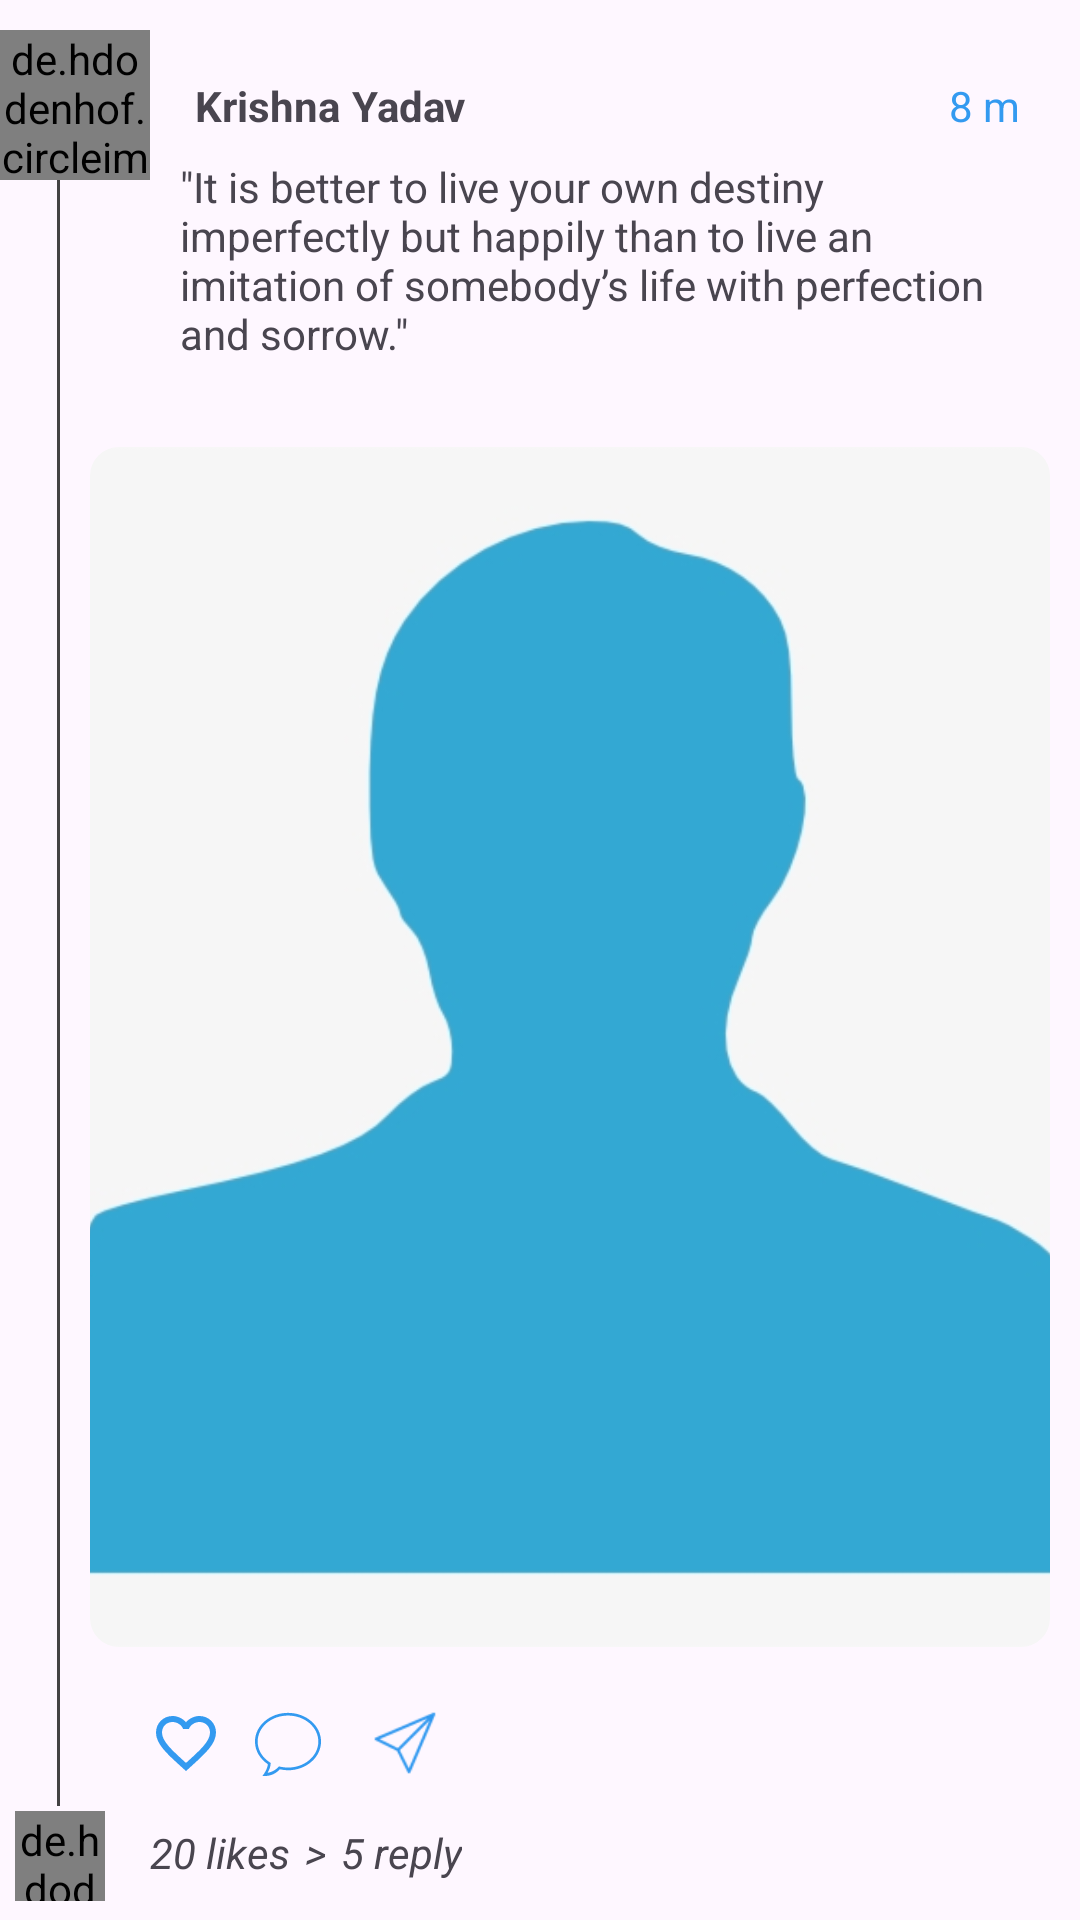

Icon bounding boxes for this 1080*1920 phone screenshot, format {"x1": x1, "y1": y1, "x2": x2, "y2": y2}:
comment: {"x1": 255, "y1": 1712, "x2": 321, "y2": 1776}
favorite border: {"x1": 156, "y1": 1716, "x2": 216, "y2": 1771}
sent: {"x1": 374, "y1": 1712, "x2": 436, "y2": 1774}
